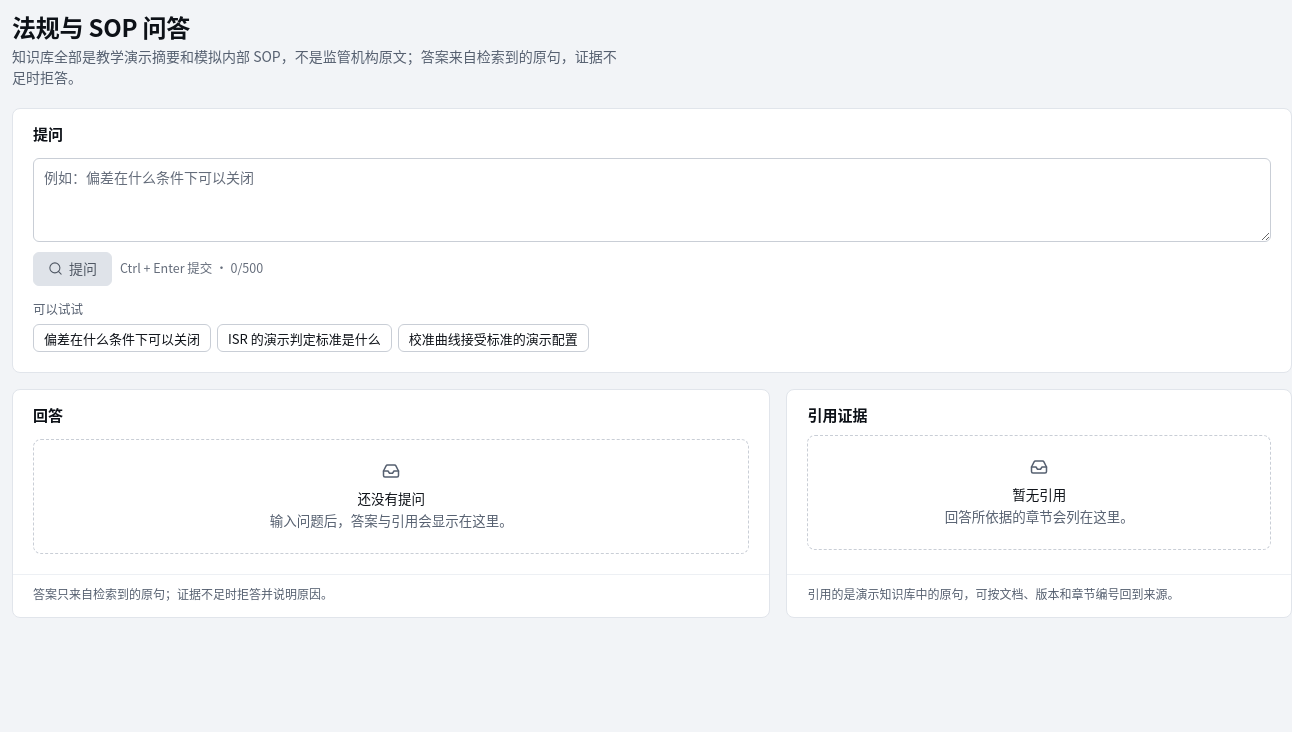
Scenario: 法规问答 › 提问失败：显示错误并可重试
In the text box named "问题": (652, 200) top-left (33, 158), bottom-right (1271, 242), type "x"
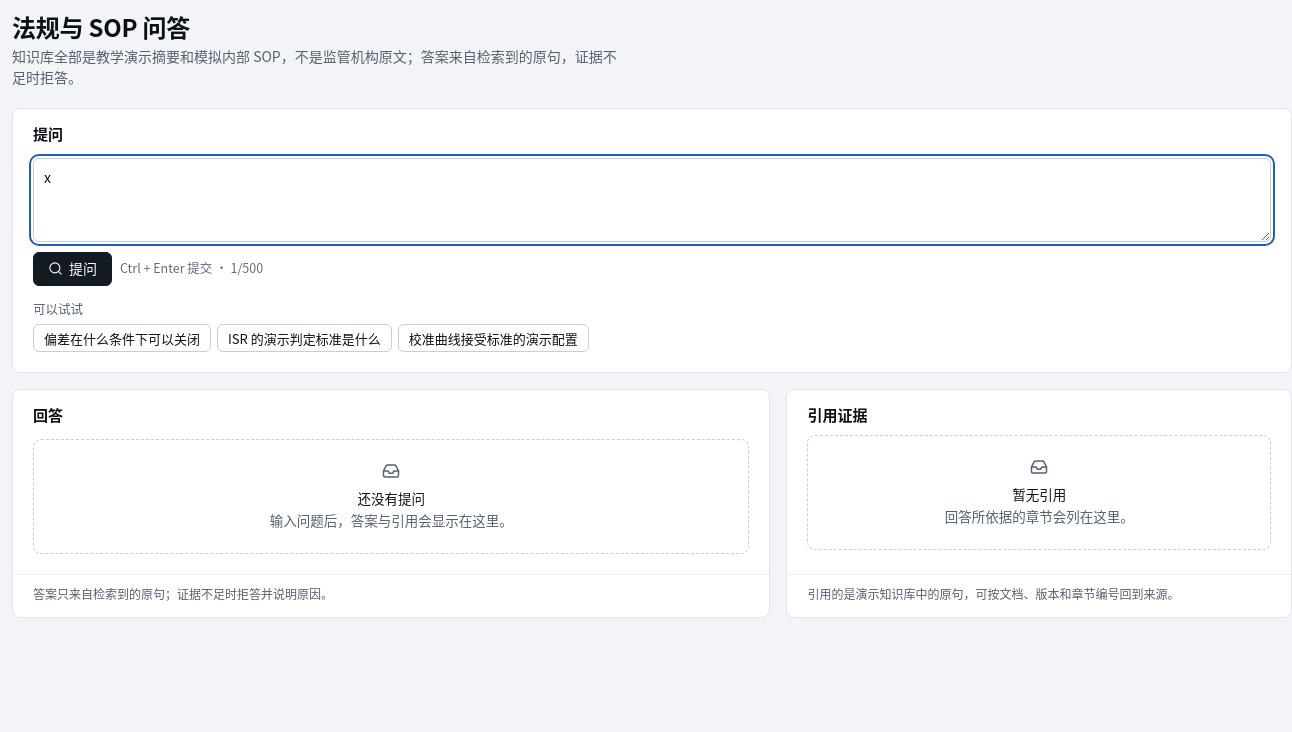
Click the button "提问": click(72, 268) top-left (33, 252), bottom-right (112, 286)
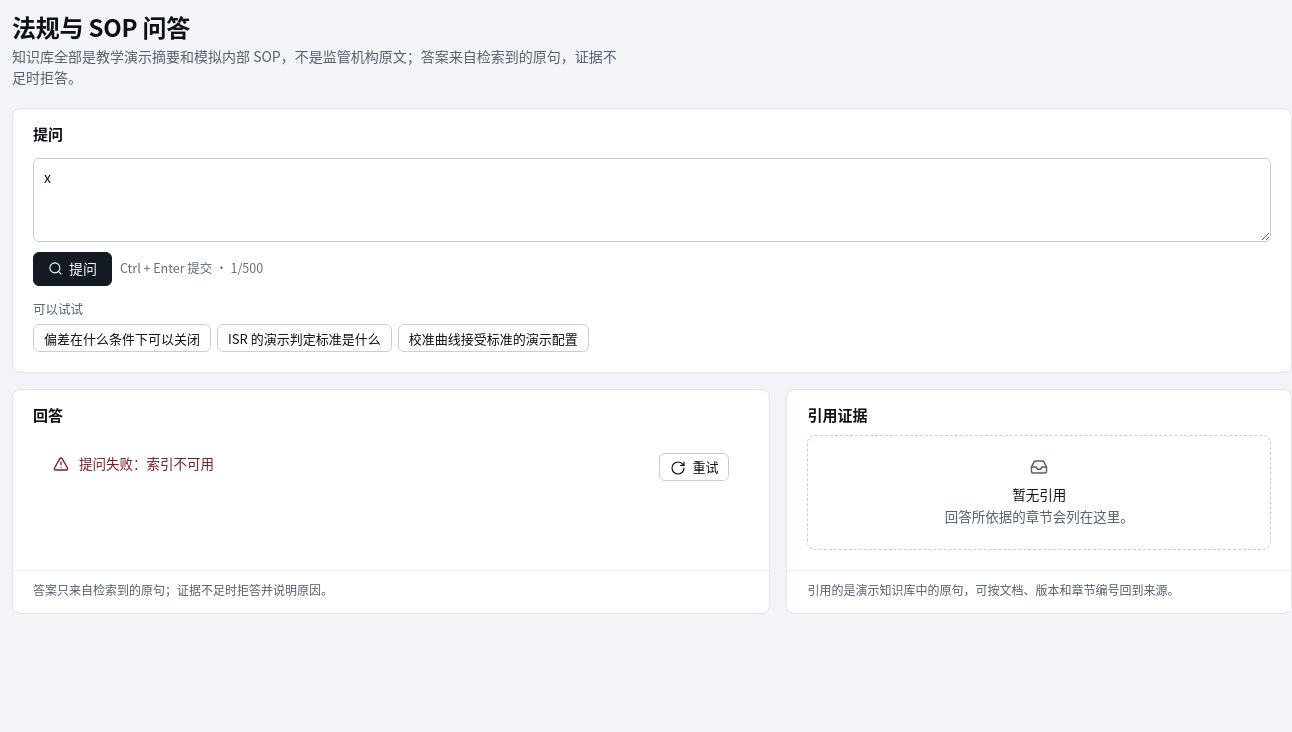
Check: the text "提问失败：索引不可用" is shown, box top-left (79, 453), bottom-right (214, 473)
Check: the button "重试" is shown, box top-left (659, 453), bottom-right (729, 481)
